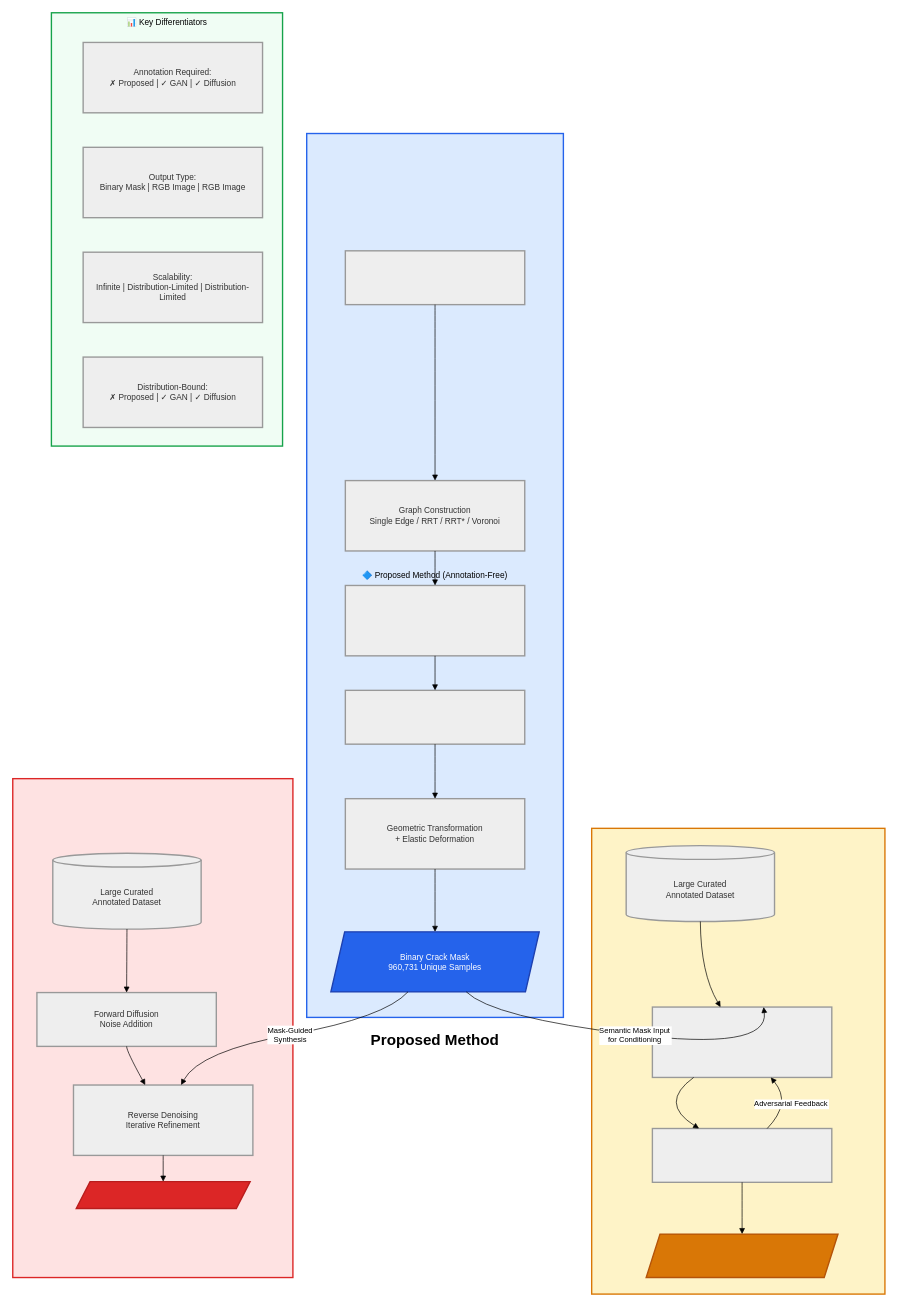
This 897x1306 diagram has some shape labels left out. Here are the shapes that lost their labels. From the top down, the centre of each, then its label:
the point at 434,277: Random Noise Image Uniform / Gaussian
the point at 434,620: Dijkstra Path Tracing Shortest / Longest Path
the point at 434,717: Morphological Dilation Variable Width
the point at 741,1042: Generator Network Produces Synthetic Images
the point at 741,1155: Discriminator Network Real vs. Fake
the point at 162,1195: High-Quality Crack Images
the point at 741,1255: Realistic RGB Crack Images
